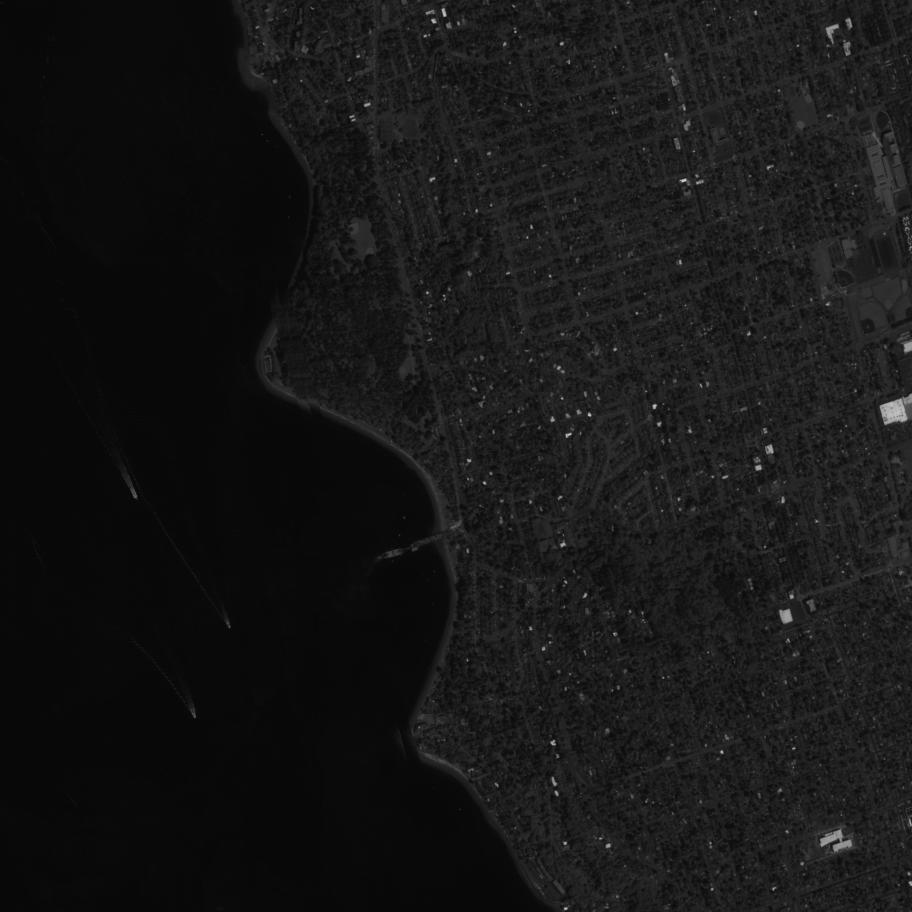ship: (375, 546, 408, 562), (227, 623, 232, 630), (134, 496, 139, 501), (193, 713, 196, 719)
